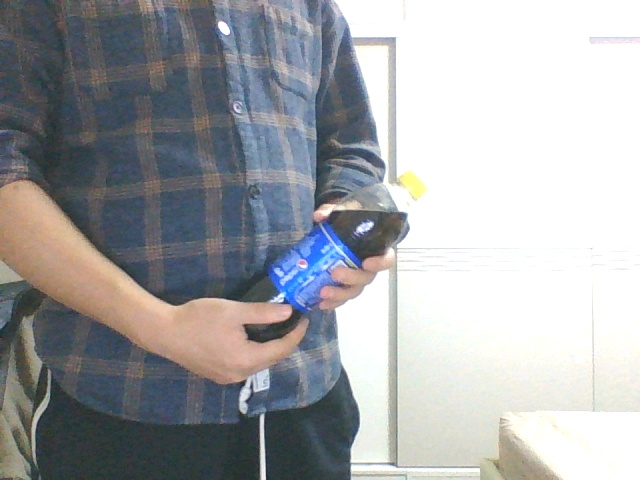Cola: (238, 171, 425, 341)
